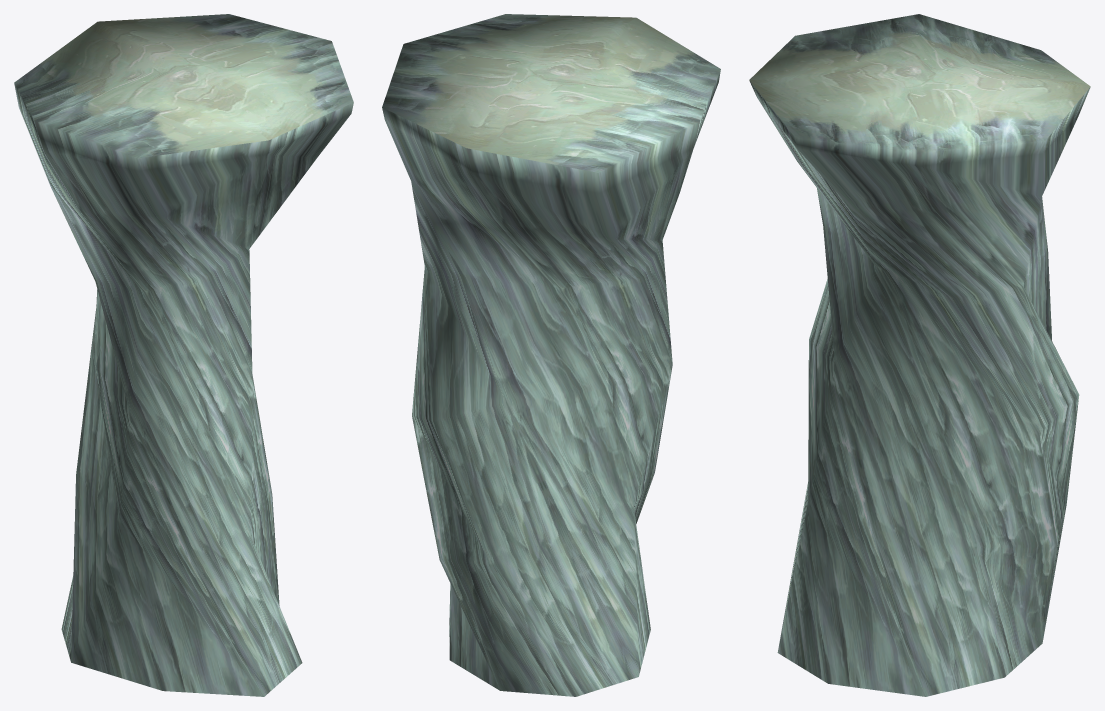
Rendered from TROLLHOLE02_WATER PLATFORM G.obj.
3 renders of one model, left to right at view 1: azimuth 30°, elevation 25°; view 2: azimuth 150°, elevation 25°; view 3: azimuth 270°, elevation 25°, orthographic.
Visible parts, largest first — view 1: ater Platform G; view 2: ater Platform G; view 3: ater Platform G.
Boxes of the visible parts, x1=… form: ater Platform G: x1=14, y1=14, x2=353, y2=696; ater Platform G: x1=382, y1=14, x2=720, y2=696; ater Platform G: x1=749, y1=14, x2=1090, y2=696.
Size of the model in its own units: 236 by 436 by 235.
